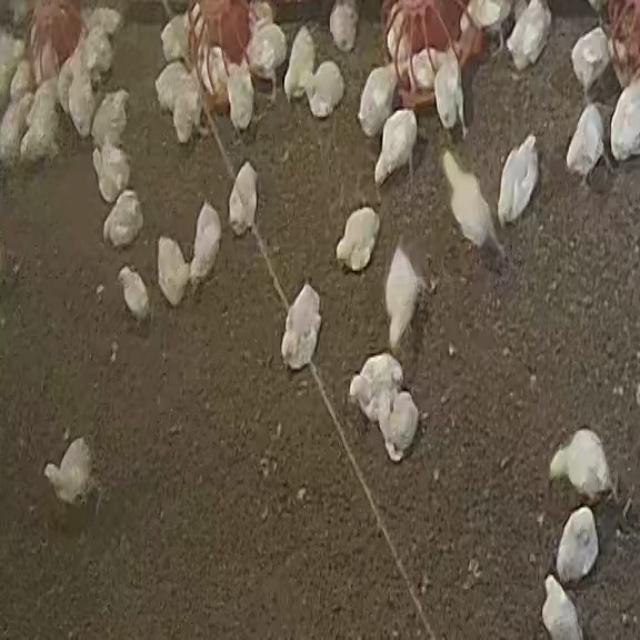chicken: (438, 146, 504, 266), (382, 245, 438, 351), (547, 426, 619, 502), (277, 282, 324, 371), (497, 136, 540, 224), (334, 203, 383, 275), (44, 438, 94, 508), (373, 110, 418, 187), (554, 507, 599, 584), (504, 0, 553, 70), (244, 13, 287, 91), (563, 105, 605, 181), (225, 154, 261, 239), (569, 26, 611, 97), (357, 65, 397, 137), (432, 52, 466, 136), (172, 67, 208, 146), (189, 202, 223, 284), (92, 140, 132, 207), (112, 263, 154, 326), (540, 576, 581, 640), (283, 25, 316, 103), (303, 60, 345, 119), (90, 90, 130, 150), (103, 192, 143, 250), (157, 236, 190, 306), (226, 63, 256, 134), (406, 48, 443, 89)
